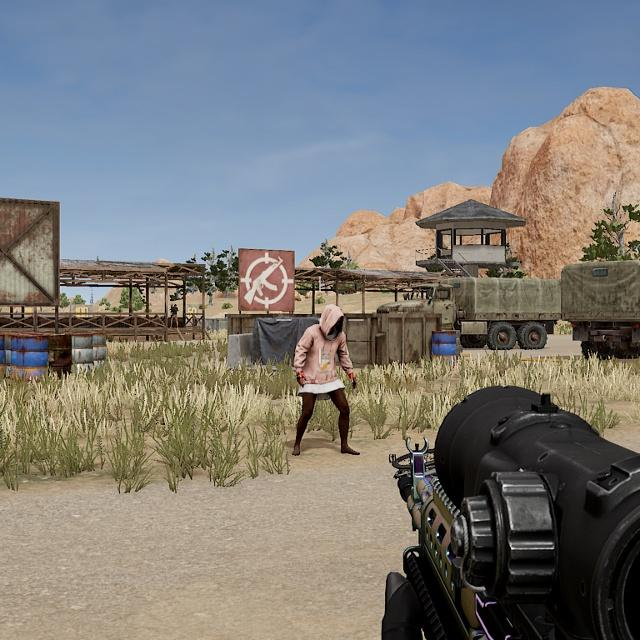head: (316, 303, 346, 341)
people: (293, 303, 365, 460)
